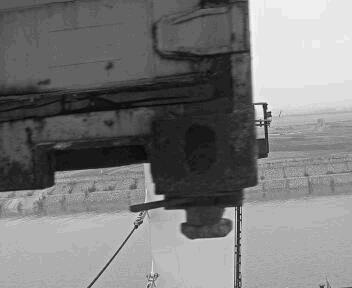twist_lock_1: (203, 178, 309, 246)
